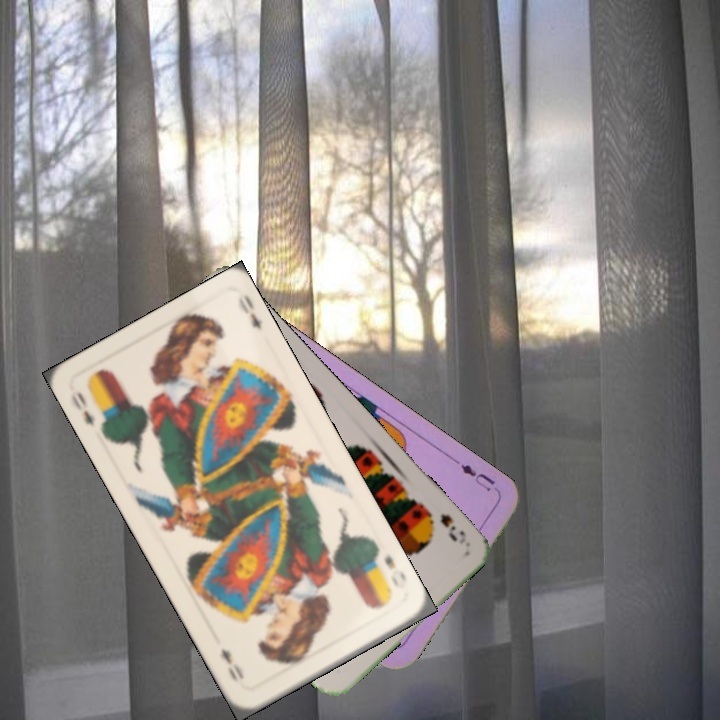EO: (66, 387, 98, 430), (380, 550, 410, 592)
EU: (456, 460, 502, 497)
S9: (421, 504, 460, 545)
